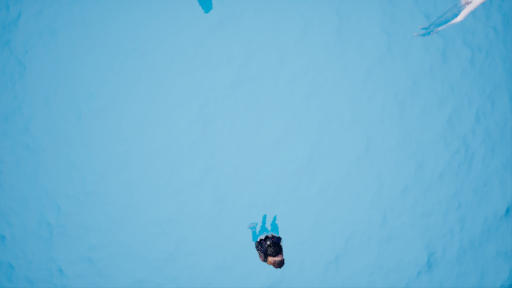person: (233, 208, 300, 275), (418, 1, 493, 41)
